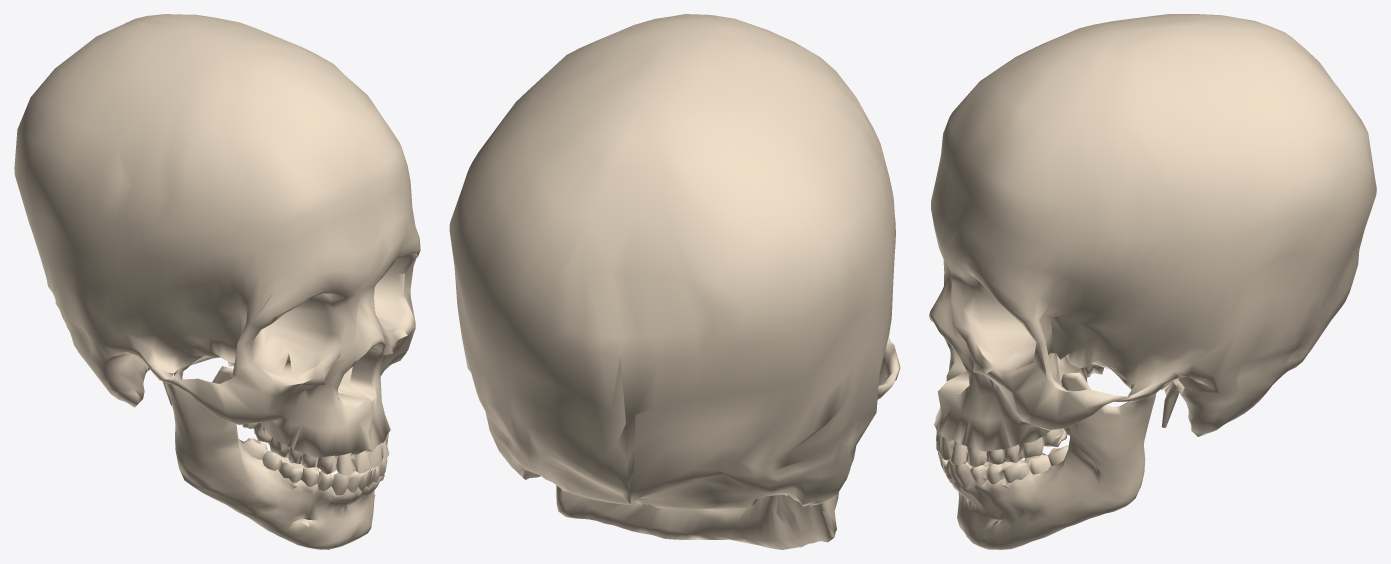
Rendered from skull.fbx.
The picture shows the model from 3 angles, left to right: view 1: azimuth 30°, elevation 25°; view 2: azimuth 150°, elevation 25°; view 3: azimuth 270°, elevation 25°; orthographic projection. The views are drawn at different scales.
Visible parts, largest first — view 1: skull, jaw, lteeth, uteeth; view 2: skull, jaw; view 3: skull, jaw, lteeth, uteeth.
Part boxes in pixels (left/top/right/bottom): skull: left=14, top=14, right=420, bottom=460; jaw: left=165, top=366, right=384, bottom=549; lteeth: left=242, top=438, right=387, bottom=495; uteeth: left=242, top=422, right=389, bottom=475; skull: left=449, top=14, right=900, bottom=509; jaw: left=556, top=485, right=838, bottom=549; skull: left=929, top=14, right=1376, bottom=451; jaw: left=943, top=372, right=1156, bottom=549; lteeth: left=938, top=445, right=1068, bottom=487; uteeth: left=936, top=427, right=1069, bottom=467.
Bounding box in the file's own units: 5.23 × 7.32 × 6.14.
